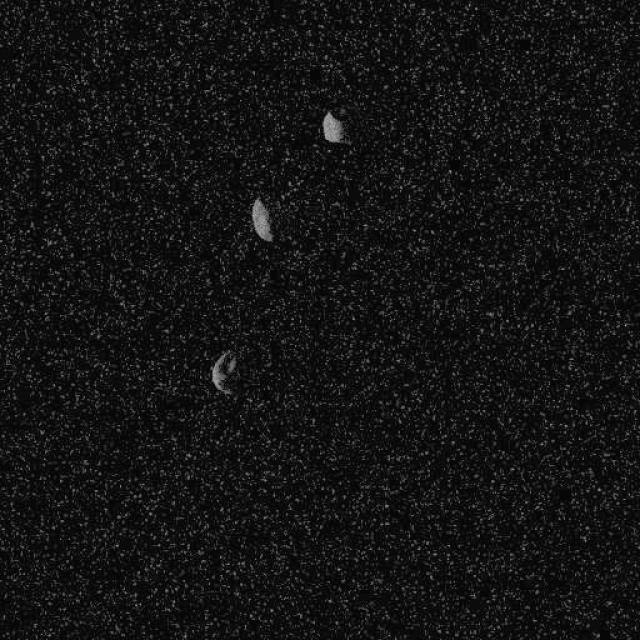D2: (210, 349, 239, 395), (250, 196, 274, 242), (320, 109, 345, 142)
